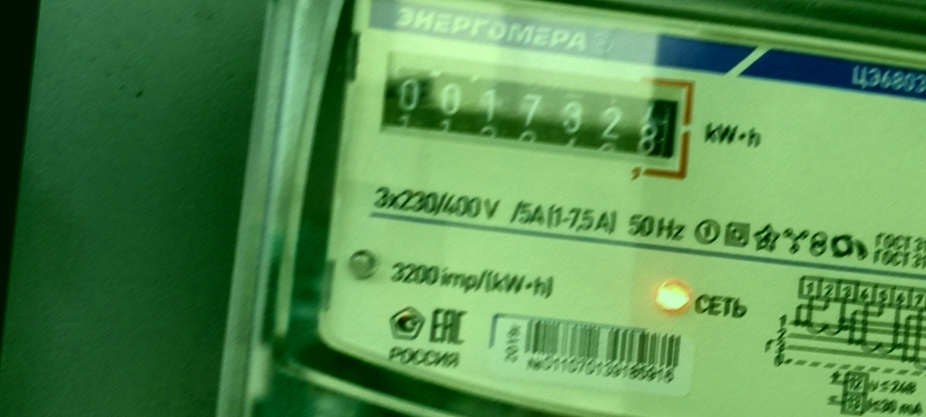0: (397, 74, 423, 113), (438, 81, 462, 116)
1: (481, 85, 500, 123)
2: (598, 104, 623, 142)
3: (559, 98, 585, 136)
7: (517, 89, 545, 129)
8: (635, 119, 658, 156)
screen: (368, 47, 700, 182)
